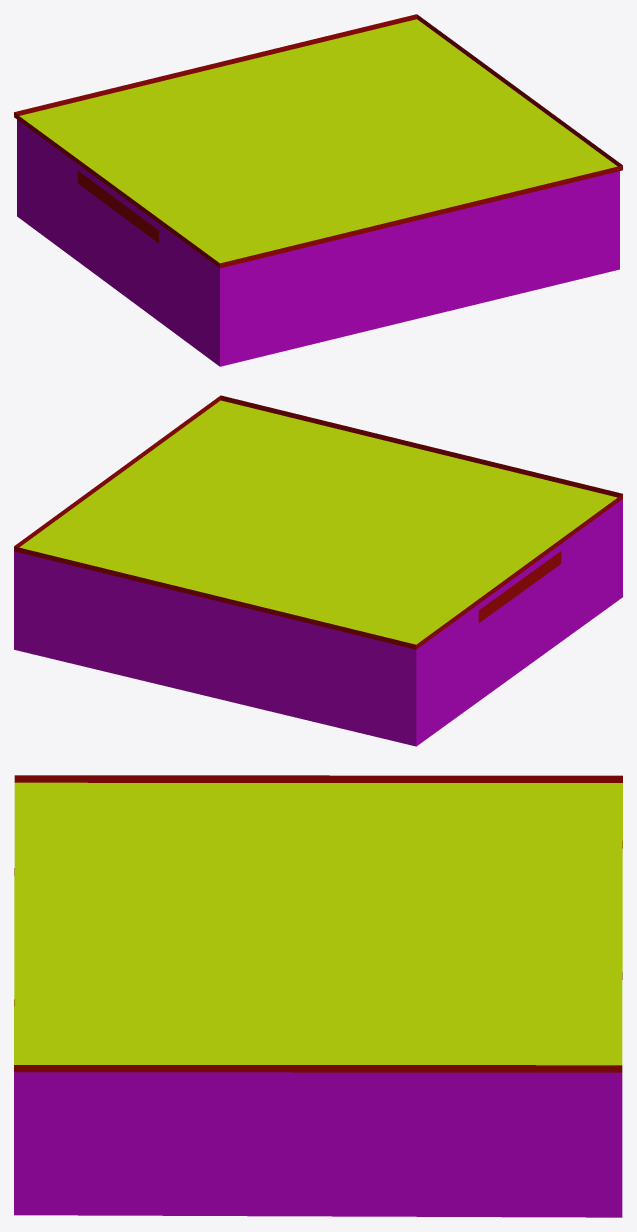
The model's file is bgj_104.glb.
3 renders of one model, top to bottom at view 1: azimuth 30°, elevation 25°; view 2: azimuth 150°, elevation 25°; view 3: azimuth 270°, elevation 25°, orthographic. The views are drawn at different scales.
Visible parts, largest first — view 1: bgj_104; view 2: bgj_104; view 3: bgj_104.
Boxes of the visible parts, x1,y1,x2,y2 form: bgj_104: (14, 14, 622, 366); bgj_104: (14, 395, 622, 746); bgj_104: (14, 775, 622, 1217).
Size of the model in its own units: 29.23 by 7.17 by 25.95.
